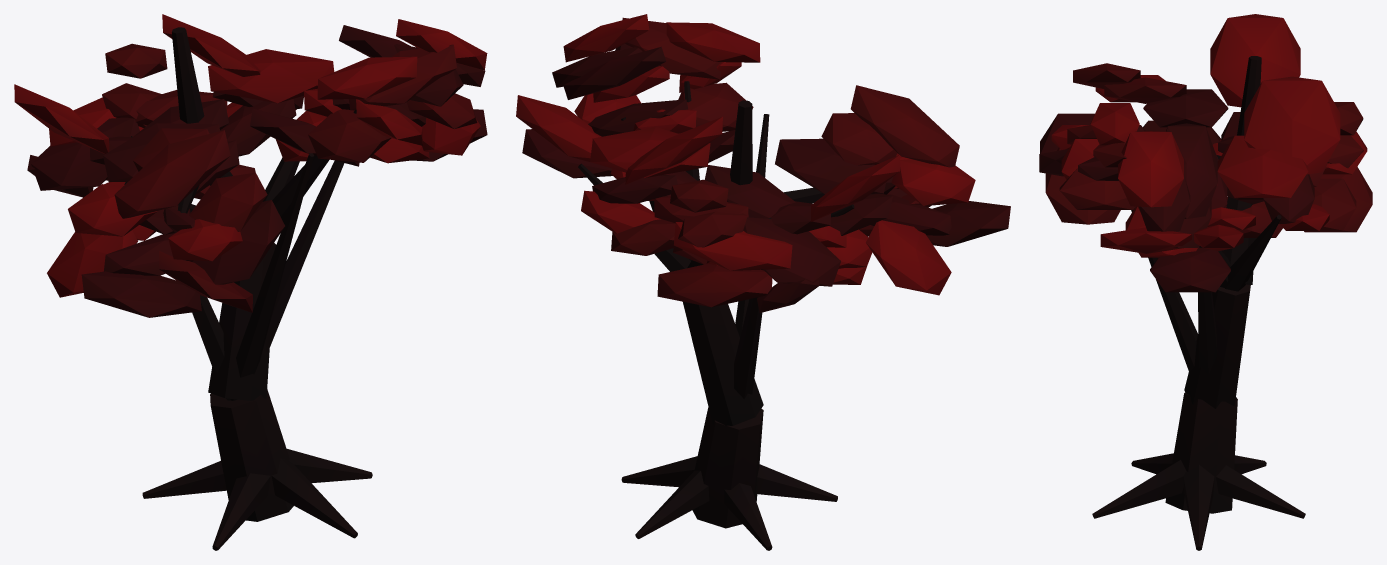
File: AshTree.fbx
3 renders of one model, left to right at view 1: azimuth 30°, elevation 25°; view 2: azimuth 150°, elevation 25°; view 3: azimuth 270°, elevation 25°, orthographic. The views are drawn at different scales.
Visible parts, largest first — view 1: RuinsPaint.RuinsPaint; view 2: RuinsPaint.RuinsPaint; view 3: RuinsPaint.RuinsPaint.
Part boxes in pixels (box(x1,y1,x2,y2)): RuinsPaint.RuinsPaint: box(14, 14, 487, 550); RuinsPaint.RuinsPaint: box(516, 14, 1010, 550); RuinsPaint.RuinsPaint: box(1039, 14, 1372, 550).
Bounding box in the file's own units: 4.31 × 4.29 × 3.
